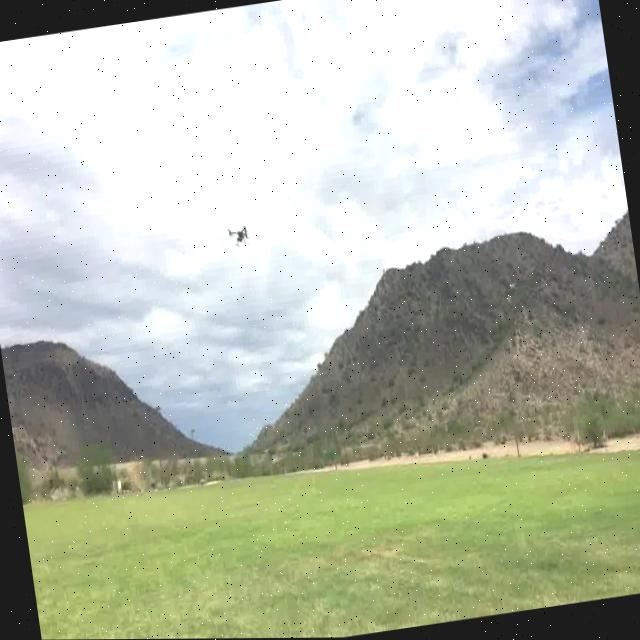drone: (226, 220, 252, 248)
